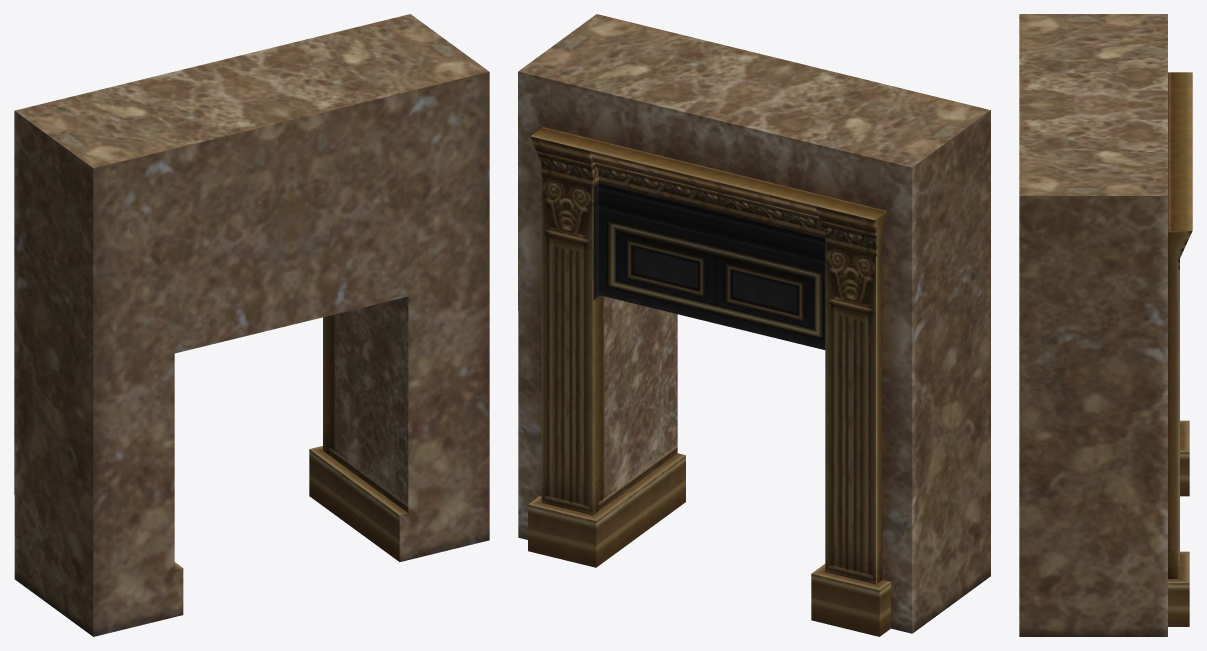
Rendered from furni_0200324.FBX.
3 renders of one model, left to right at view 1: azimuth 30°, elevation 25°; view 2: azimuth 150°, elevation 25°; view 3: azimuth 270°, elevation 25°, orthographic. The views are drawn at different scales.
Parts seen in each view (by area): view 1: furni_0200324; view 2: furni_0200324; view 3: furni_0200324.
Part boxes in pixels (x1=…): furni_0200324: x1=14, y1=14, x2=489, y2=636; furni_0200324: x1=518, y1=14, x2=990, y2=636; furni_0200324: x1=1019, y1=14, x2=1192, y2=636.
Size of the model in its own units: 160 by 181 by 64.4.
